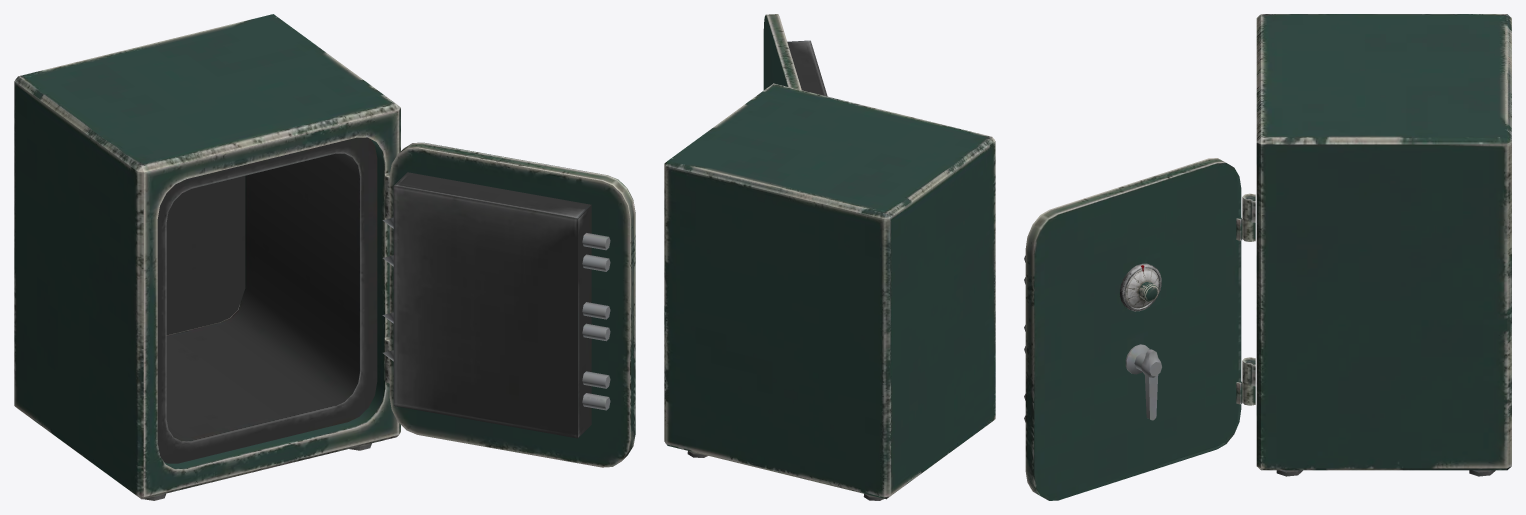
Rendered from safe_open.glb.
3 renders of one model, left to right at view 1: azimuth 30°, elevation 25°; view 2: azimuth 150°, elevation 25°; view 3: azimuth 270°, elevation 25°, orthographic. The views are drawn at different scales.
Parts seen in each view (by area): view 1: Object_2; view 2: Object_2; view 3: Object_2.
Part boxes in pixels (x1,y1,x2,y2): Object_2: (14, 14, 635, 500); Object_2: (664, 14, 995, 500); Object_2: (1024, 14, 1511, 500).
Bounding box in the file's own units: 0.6124 × 0.5255 × 0.6749.
1 material, 1 textured.
